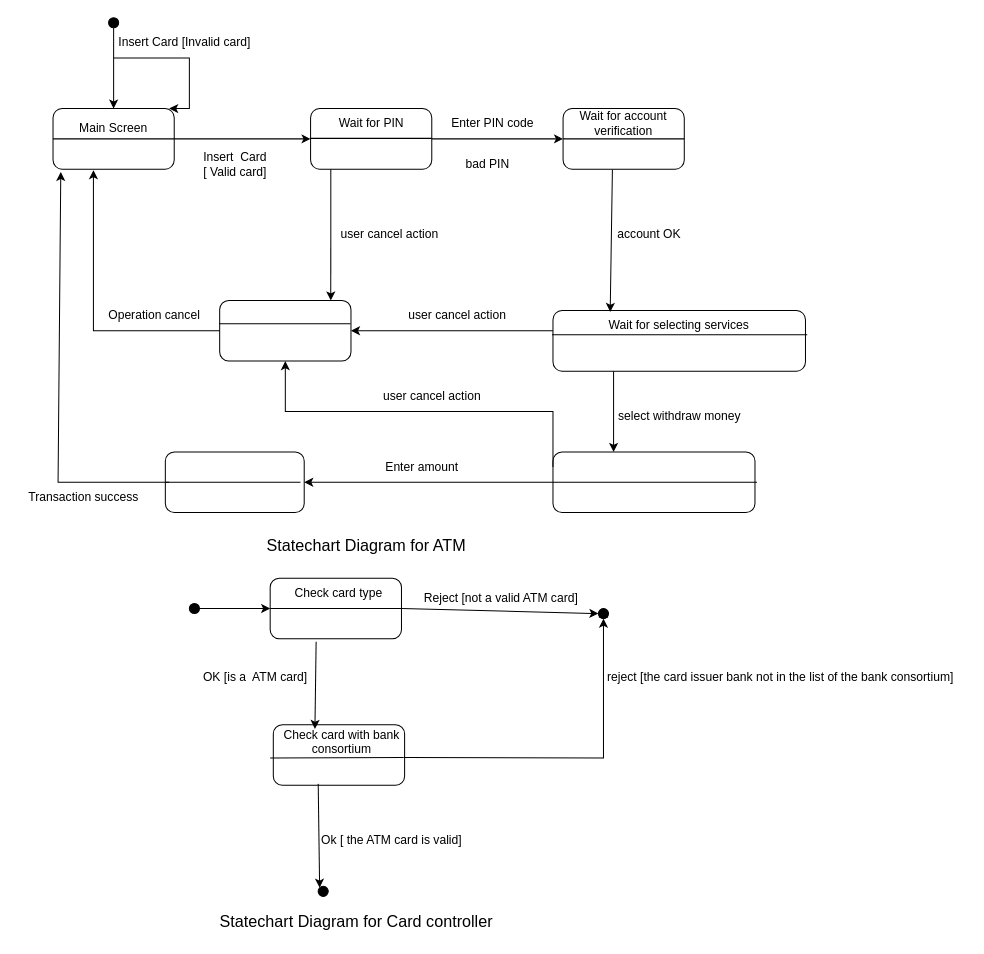
Some shapes in this 984 by 954 pixel diagram are drawn without their labels. The shapes that lost their labels are listed below. From the top down, each one's centre as x and y in pixels, then its label:
the point at 285,330: Cancel
the point at 234,482: Process transaction
the point at 653,482: Wait for entering amount
